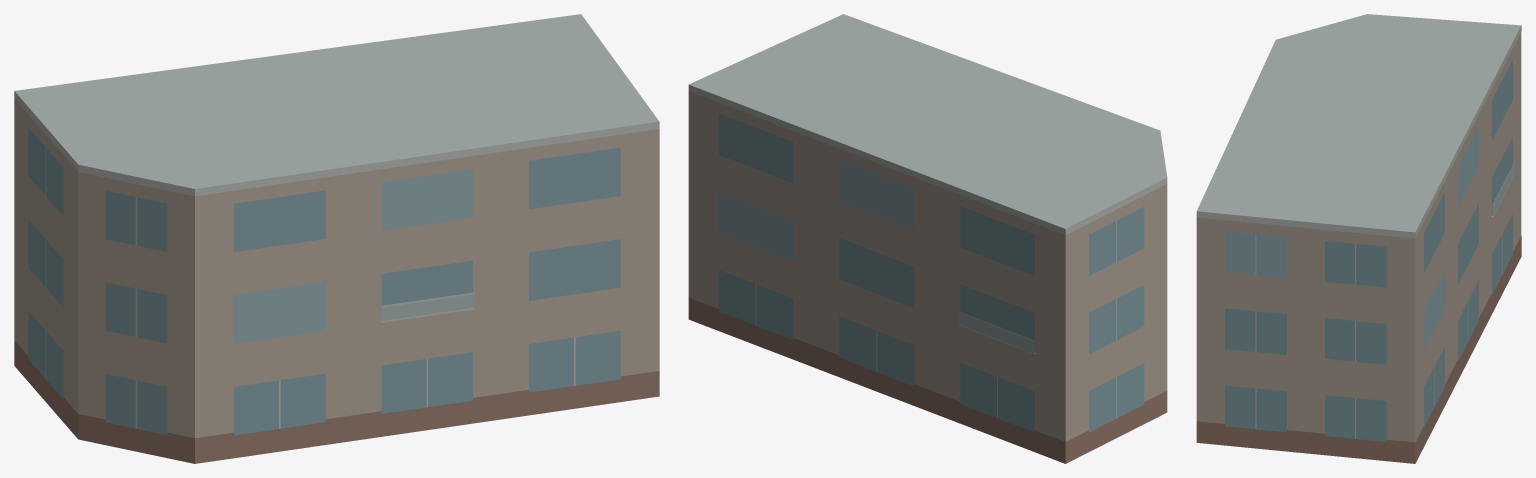
Rendered from survey-upis-32975832.glb.
3 renders of one model, left to right at view 1: azimuth 30°, elevation 25°; view 2: azimuth 150°, elevation 25°; view 3: azimuth 270°, elevation 25°, orthographic. The views are drawn at different scales.
Visible parts, largest first — view 1: survey-upis-32975832.tmp; view 2: survey-upis-32975832.tmp; view 3: survey-upis-32975832.tmp.
Boxes of the visible parts, x1=… form: survey-upis-32975832.tmp: x1=14, y1=14, x2=659, y2=463; survey-upis-32975832.tmp: x1=688, y1=14, x2=1167, y2=463; survey-upis-32975832.tmp: x1=1196, y1=14, x2=1521, y2=463.
Bounding box in the file's own units: 18.53 × 9.15 × 11.65.
